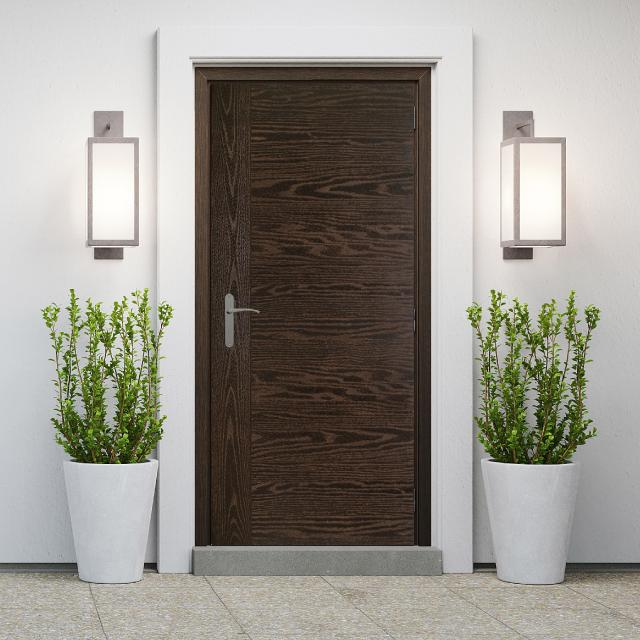door: (198, 65, 430, 548)
